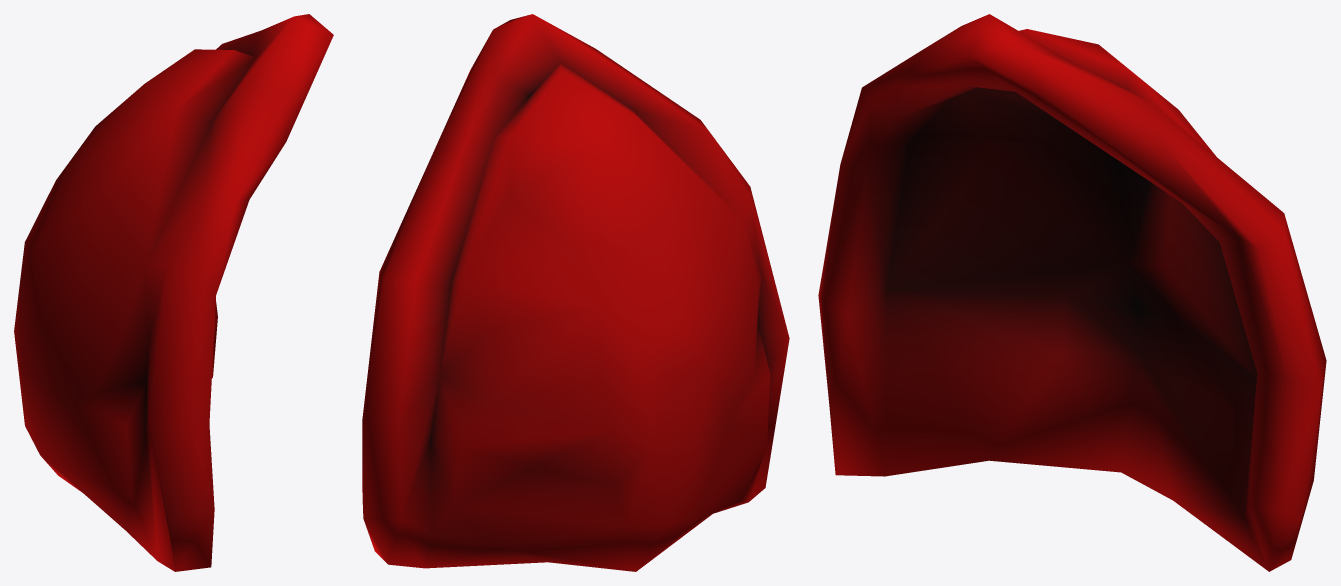
Rendered from SM_Ebonut_shell_02.fbx.
3 renders of one model, left to right at view 1: azimuth 30°, elevation 25°; view 2: azimuth 150°, elevation 25°; view 3: azimuth 270°, elevation 25°, orthographic. The views are drawn at different scales.
Visible parts, largest first — view 1: SM_Ebonut_shell_02; view 2: SM_Ebonut_shell_02; view 3: SM_Ebonut_shell_02.
Part boxes in pixels (x1,y1,x2,y2): SM_Ebonut_shell_02: (14, 14, 333, 571); SM_Ebonut_shell_02: (362, 14, 789, 571); SM_Ebonut_shell_02: (818, 14, 1326, 571).
Size of the model in its own units: 43.61 by 74.13 by 61.65.
